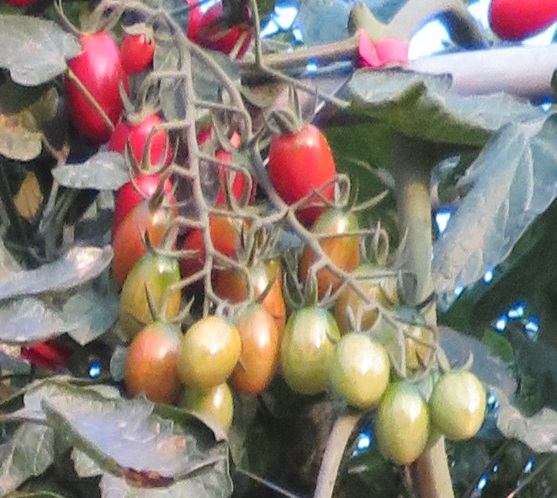green: (116, 253, 186, 332), (177, 308, 241, 392), (279, 305, 334, 396), (378, 374, 427, 467), (325, 332, 388, 403), (434, 366, 485, 442)
orange: (241, 302, 283, 394), (128, 328, 176, 405)
red: (69, 28, 126, 142), (268, 127, 338, 208), (489, 1, 555, 42)
